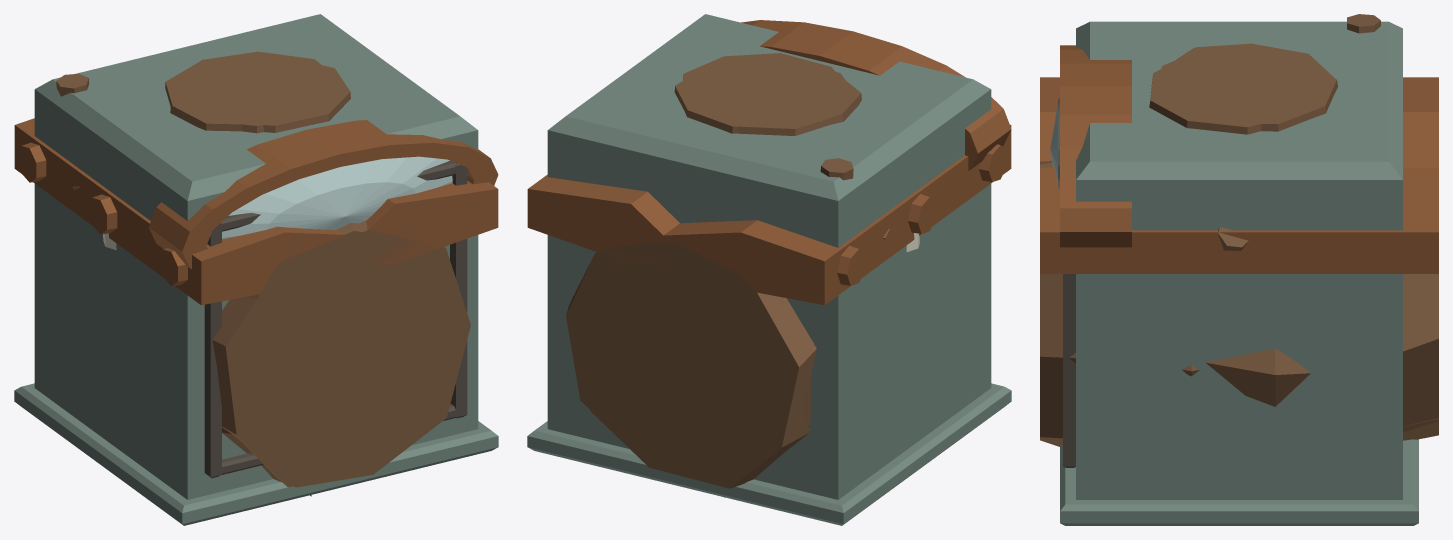
The model's file is MountainRoadMisc3D.fbx.
3 views of the same model, side by side, from view 1: azimuth 30°, elevation 25°; view 2: azimuth 150°, elevation 25°; view 3: azimuth 270°, elevation 25° (orthographic). The views are drawn at different scales.
Visible parts, largest first — view 1: GEO_MRM_UtilityCabinet_Body, GEO_MRM_FallenLog_Variant01_Wood, GEO_MRM_GuardRail_Iron, GEO_MRM_FallenLog_Variant02_Wood, GEO_MRM_FallenLog_Variant03_Wood, GEO_MRM_ConvexMirror_Frame, GEO_MRM_ConvexMirror_Face, GEO_MRM_Stump_Variant01_Wood, GEO_MRM_UtilityCabinet_Trim, GEO_MRM_Stump_Variant04_Wood, GEO_MRM_Stump_Variant03_Wood, GEO_MRM_Stump_Variant02_Wood (+1 smaller); view 2: GEO_MRM_UtilityCabinet_Body, GEO_MRM_FallenLog_Variant01_Wood, GEO_MRM_GuardRail_Iron, GEO_MRM_FallenLog_Variant02_Wood, GEO_MRM_FallenLog_Variant03_Wood, GEO_MRM_ConvexMirror_Frame, GEO_MRM_Stump_Variant01_Wood, GEO_MRM_Stump_Variant03_Wood, GEO_MRM_Stump_Variant02_Wood, GEO_MRM_Stump_Variant04_Wood, GEO_MRM_AbandonedChair_Wood; view 3: GEO_MRM_UtilityCabinet_Body, GEO_MRM_GuardRail_Iron, GEO_MRM_Stump_Variant02_Wood, GEO_MRM_ConvexMirror_Frame, GEO_MRM_FallenLog_Variant01_Wood, GEO_MRM_Stump_Variant01_Wood, GEO_MRM_FallenLog_Variant03_Wood, GEO_MRM_Stump_Variant04_Wood, GEO_MRM_UtilityCabinet_Trim, GEO_MRM_Stump_Variant03_Wood, GEO_MRM_AbandonedChair_Wood, GEO_MRM_ConvexMirror_Face.
Part boxes in pixels (<box>): GEO_MRM_UtilityCabinet_Body: <box>14,14,498,525</box>; GEO_MRM_FallenLog_Variant01_Wood: <box>212,221,470,487</box>; GEO_MRM_GuardRail_Iron: <box>14,118,498,305</box>; GEO_MRM_FallenLog_Variant02_Wood: <box>72,186,450,481</box>; GEO_MRM_FallenLog_Variant03_Wood: <box>222,249,448,487</box>; GEO_MRM_ConvexMirror_Frame: <box>148,120,498,268</box>; GEO_MRM_ConvexMirror_Face: <box>222,156,452,239</box>; GEO_MRM_Stump_Variant01_Wood: <box>175,57,340,133</box>; GEO_MRM_UtilityCabinet_Trim: <box>204,160,467,478</box>; GEO_MRM_Stump_Variant04_Wood: <box>173,51,340,496</box>; GEO_MRM_Stump_Variant03_Wood: <box>165,56,311,131</box>; GEO_MRM_Stump_Variant02_Wood: <box>186,65,350,132</box>; GEO_MRM_UtilityCabinet_Body: <box>527,14,1011,525</box>; GEO_MRM_FallenLog_Variant01_Wood: <box>566,244,814,476</box>; GEO_MRM_GuardRail_Iron: <box>527,124,1011,305</box>; GEO_MRM_FallenLog_Variant02_Wood: <box>574,228,889,461</box>; GEO_MRM_FallenLog_Variant03_Wood: <box>576,259,816,488</box>; GEO_MRM_ConvexMirror_Frame: <box>741,20,1011,170</box>; GEO_MRM_Stump_Variant01_Wood: <box>686,57,856,126</box>; GEO_MRM_Stump_Variant03_Wood: <box>690,59,861,135</box>; GEO_MRM_Stump_Variant02_Wood: <box>683,53,852,123</box>; GEO_MRM_Stump_Variant04_Wood: <box>674,57,836,497</box>; GEO_MRM_AbandonedChair_Wood: <box>820,158,853,180</box>; GEO_MRM_UtilityCabinet_Body: <box>1060,21,1418,525</box>; GEO_MRM_GuardRail_Iron: <box>1040,77,1438,273</box>; GEO_MRM_Stump_Variant02_Wood: <box>1149,51,1323,134</box>; GEO_MRM_ConvexMirror_Frame: <box>1060,45,1131,247</box>; GEO_MRM_FallenLog_Variant01_Wood: <box>1040,227,1438,444</box>; GEO_MRM_Stump_Variant01_Wood: <box>1153,46,1328,123</box>; GEO_MRM_FallenLog_Variant03_Wood: <box>1040,348,1438,446</box>; GEO_MRM_Stump_Variant04_Wood: <box>1162,52,1337,131</box>; GEO_MRM_UtilityCabinet_Trim: <box>1063,274,1075,467</box>; GEO_MRM_Stump_Variant03_Wood: <box>1160,43,1333,109</box>; GEO_MRM_AbandonedChair_Wood: <box>1347,14,1380,33</box>; GEO_MRM_ConvexMirror_Face: <box>1050,97,1059,189</box>.
Bounding box in the file's own units: 0.98 × 1 × 1.
